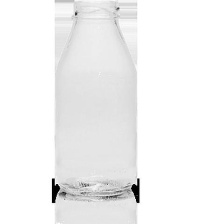bottle: (54, 0, 142, 198)
